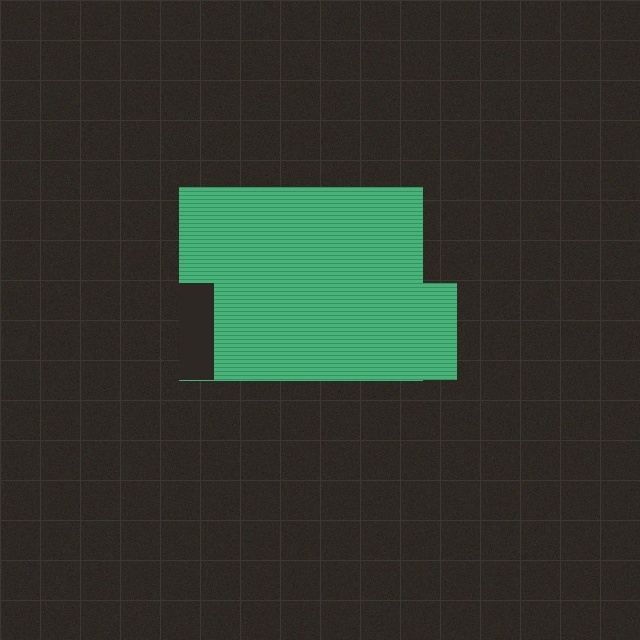layer_shift: (169, 263, 467, 303)
